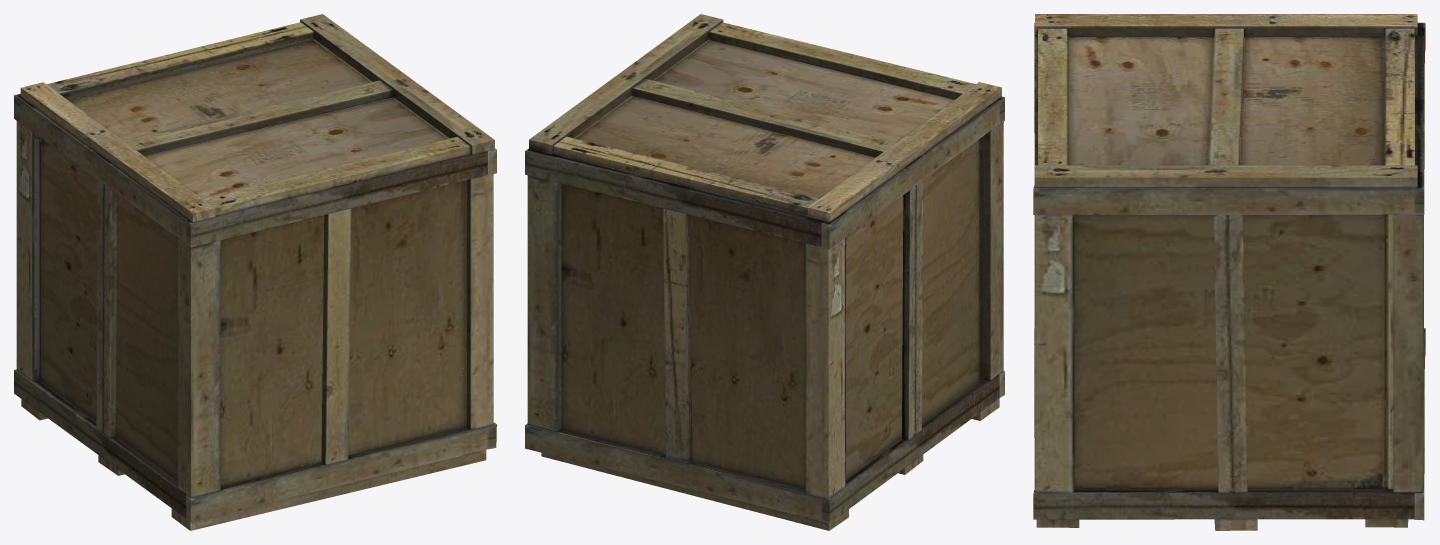
The model's file is wood_crate001a.glb.
3 views of the same model, side by side, from view 1: azimuth 30°, elevation 25°; view 2: azimuth 150°, elevation 25°; view 3: azimuth 270°, elevation 25° (orthographic). The views are drawn at different scales.
Visible parts, largest first — view 1: 0_woodcrates01a; view 2: 0_woodcrates01a; view 3: 0_woodcrates01a.
Boxes of the visible parts, x1,y1,x2,y2 form: 0_woodcrates01a: [14, 14, 496, 530]; 0_woodcrates01a: [525, 14, 1004, 530]; 0_woodcrates01a: [1033, 14, 1425, 530].
Bounding box in the file's own units: 1.02 × 1.02 × 1.02.
Materials: 1 (1 with a texture image).
